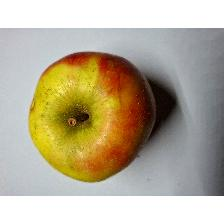Apfel: (27, 50, 160, 184)
